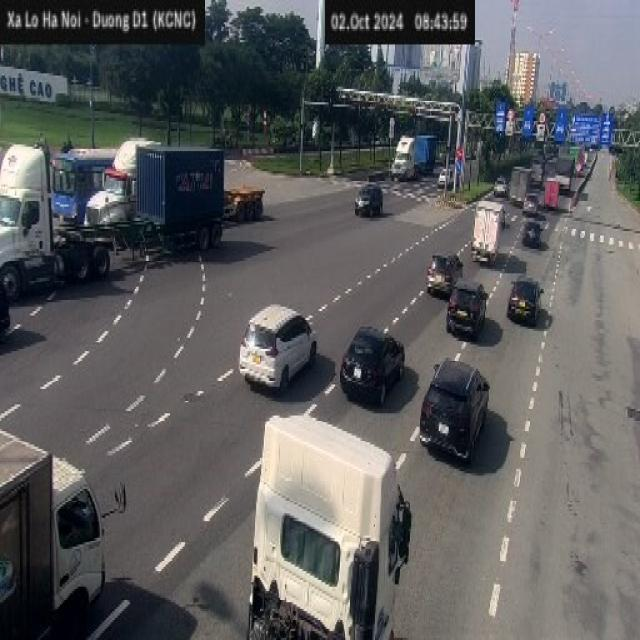bus: (42, 128, 114, 214)
car: (419, 356, 490, 464), (238, 302, 316, 393), (339, 324, 405, 406), (445, 278, 487, 338), (506, 276, 544, 324), (353, 182, 382, 216), (436, 166, 454, 186), (492, 176, 508, 196)
container-truck: (246, 411, 412, 638), (0, 146, 226, 270), (92, 131, 270, 234), (391, 129, 442, 183)
truck: (0, 424, 126, 638), (473, 200, 501, 268), (509, 154, 528, 207), (555, 154, 576, 190), (544, 169, 560, 211), (532, 154, 544, 192)
